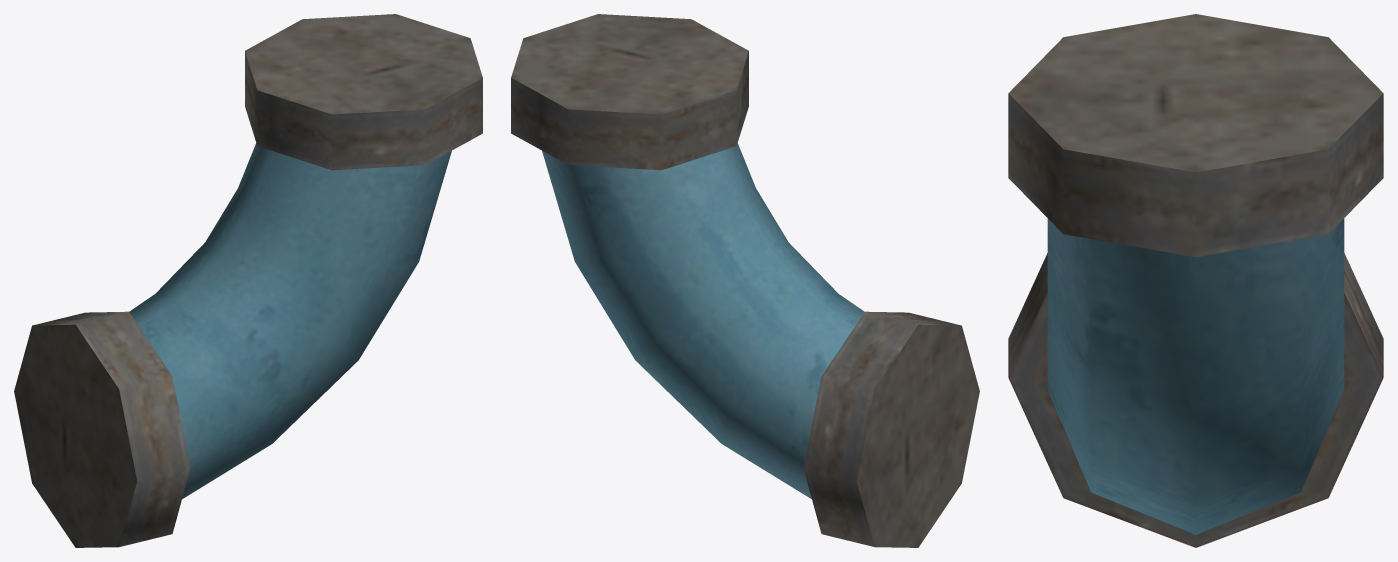
Rendered from nt_2020_pipes_90_blue_LOD1.obj.
3 views of the same model, side by side, from view 1: azimuth 30°, elevation 25°; view 2: azimuth 150°, elevation 25°; view 3: azimuth 270°, elevation 25° (orthographic). The views are drawn at different scales.
Parts seen in each view (by area): view 1: mtl_nt_2020_pipes_modular_blue; view 2: mtl_nt_2020_pipes_modular_blue; view 3: mtl_nt_2020_pipes_modular_blue.
Boxes of the visible parts, x1=… form: mtl_nt_2020_pipes_modular_blue: x1=14, y1=14, x2=482, y2=547; mtl_nt_2020_pipes_modular_blue: x1=511, y1=14, x2=979, y2=547; mtl_nt_2020_pipes_modular_blue: x1=1008, y1=14, x2=1383, y2=547.
Bounding box in the file's own units: 83.51 × 83.51 × 45.1.
